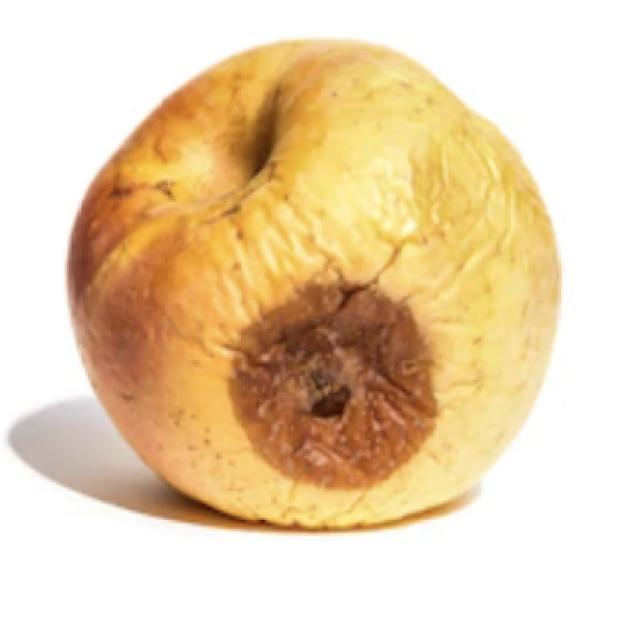Rotten: (85, 35, 572, 530)
